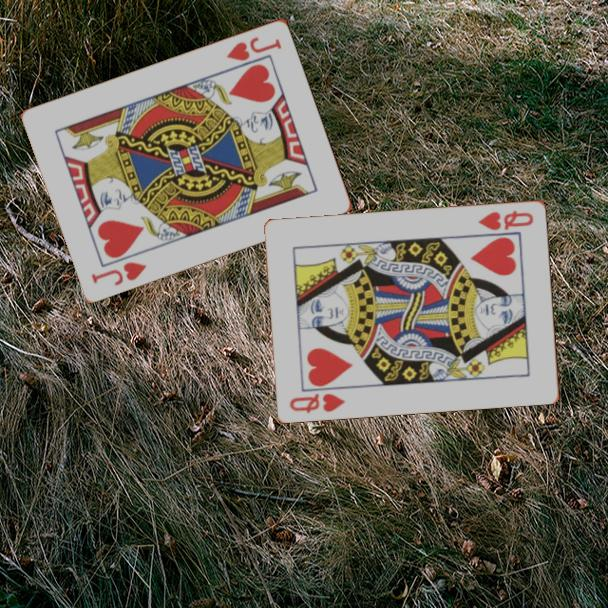h11: (223, 32, 285, 63), (88, 258, 150, 288)
h12: (286, 389, 349, 415), (475, 207, 536, 233)
